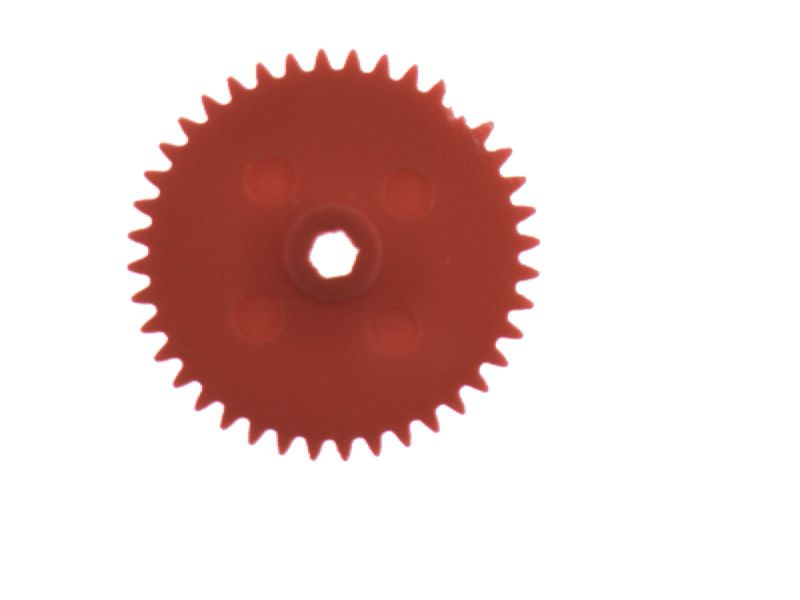defect_lack: (437, 69, 503, 132)
